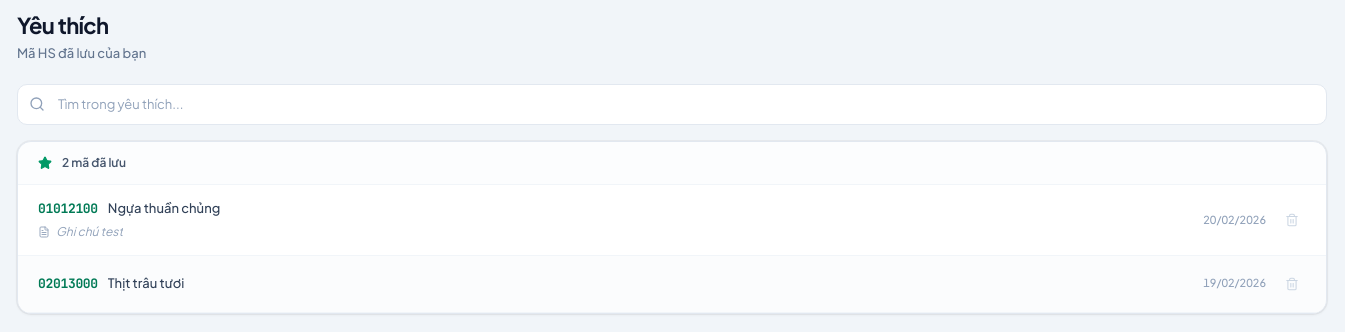
Scenario: FavoritesPage › clears filter and shows all favorites when clear button clicked
Check: the text "01012100" is shown, box left=38, top=199, right=98, bottom=218
Type "0101" into the field with placeholder "Tìm trong yêu thích..." at (672, 104), box left=17, top=84, right=1327, bottom=125
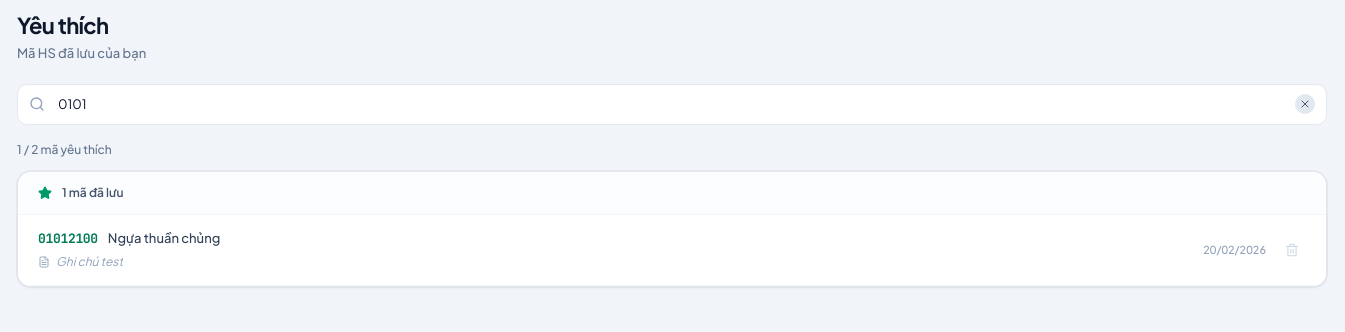
Check: the button "02013000" is gone
Note: Click clear
Click the button named "Xóa bộ lọc" at (1305, 104), box left=1295, top=94, right=1315, bottom=114
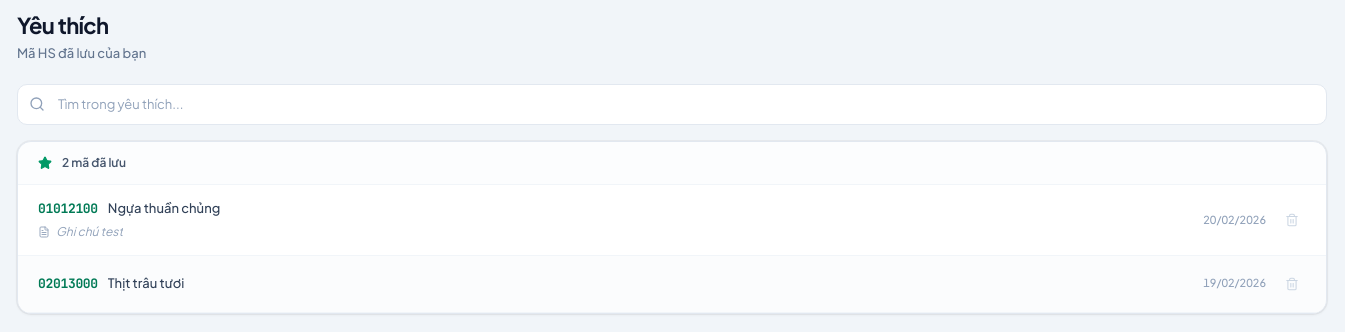
Check: the text "01012100" is shown, box left=38, top=199, right=98, bottom=218
Check: the text "02013000" is shown, box left=38, top=274, right=98, bottom=293
